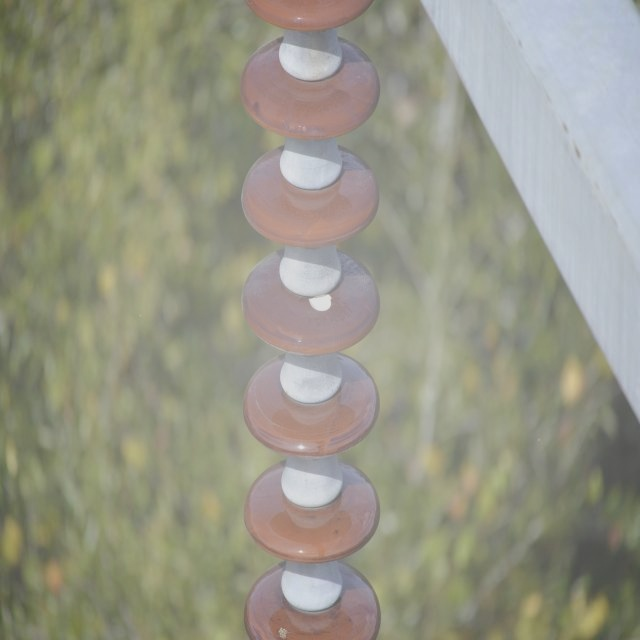broken: (306, 289, 335, 311)
insulator: (242, 0, 386, 638)
